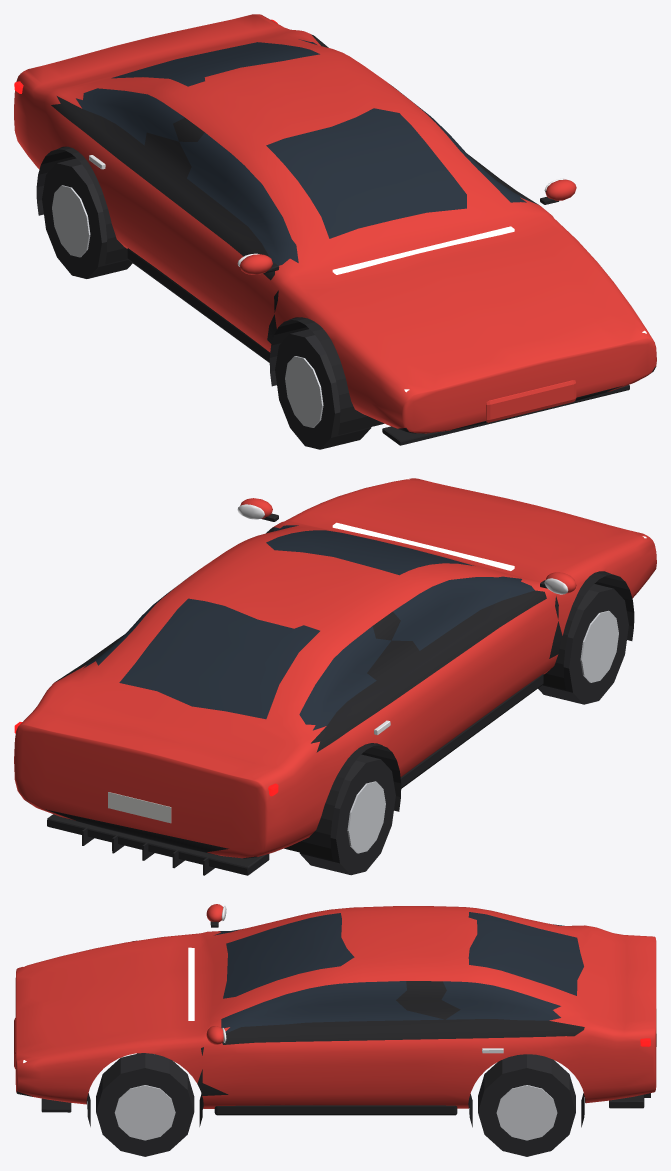
The model's file is volt_lod.glb.
3 views of the same model, one above another, from view 1: azimuth 30°, elevation 25°; view 2: azimuth 150°, elevation 25°; view 3: azimuth 270°, elevation 25° (orthographic). The views are drawn at different scales.
Parts seen in each view (by area): view 1: body, wheel_fr, wheel_rr; view 2: body, wheel_rr, wheel_fr; view 3: body, wheel_fl, wheel_rl.
Part boxes in pixels (bbox=[...]): body: bbox=[14, 14, 656, 445]; wheel_fr: bbox=[275, 329, 371, 449]; wheel_rr: bbox=[42, 158, 132, 278]; body: bbox=[14, 478, 656, 875]; wheel_rr: bbox=[299, 754, 395, 875]; wheel_fr: bbox=[538, 584, 628, 704]; body: bbox=[14, 904, 656, 1127]; wheel_fl: bbox=[96, 1053, 194, 1156]; wheel_rl: bbox=[478, 1054, 575, 1156].
Size of the model in its own units: 2.32 by 1.32 by 4.72.
